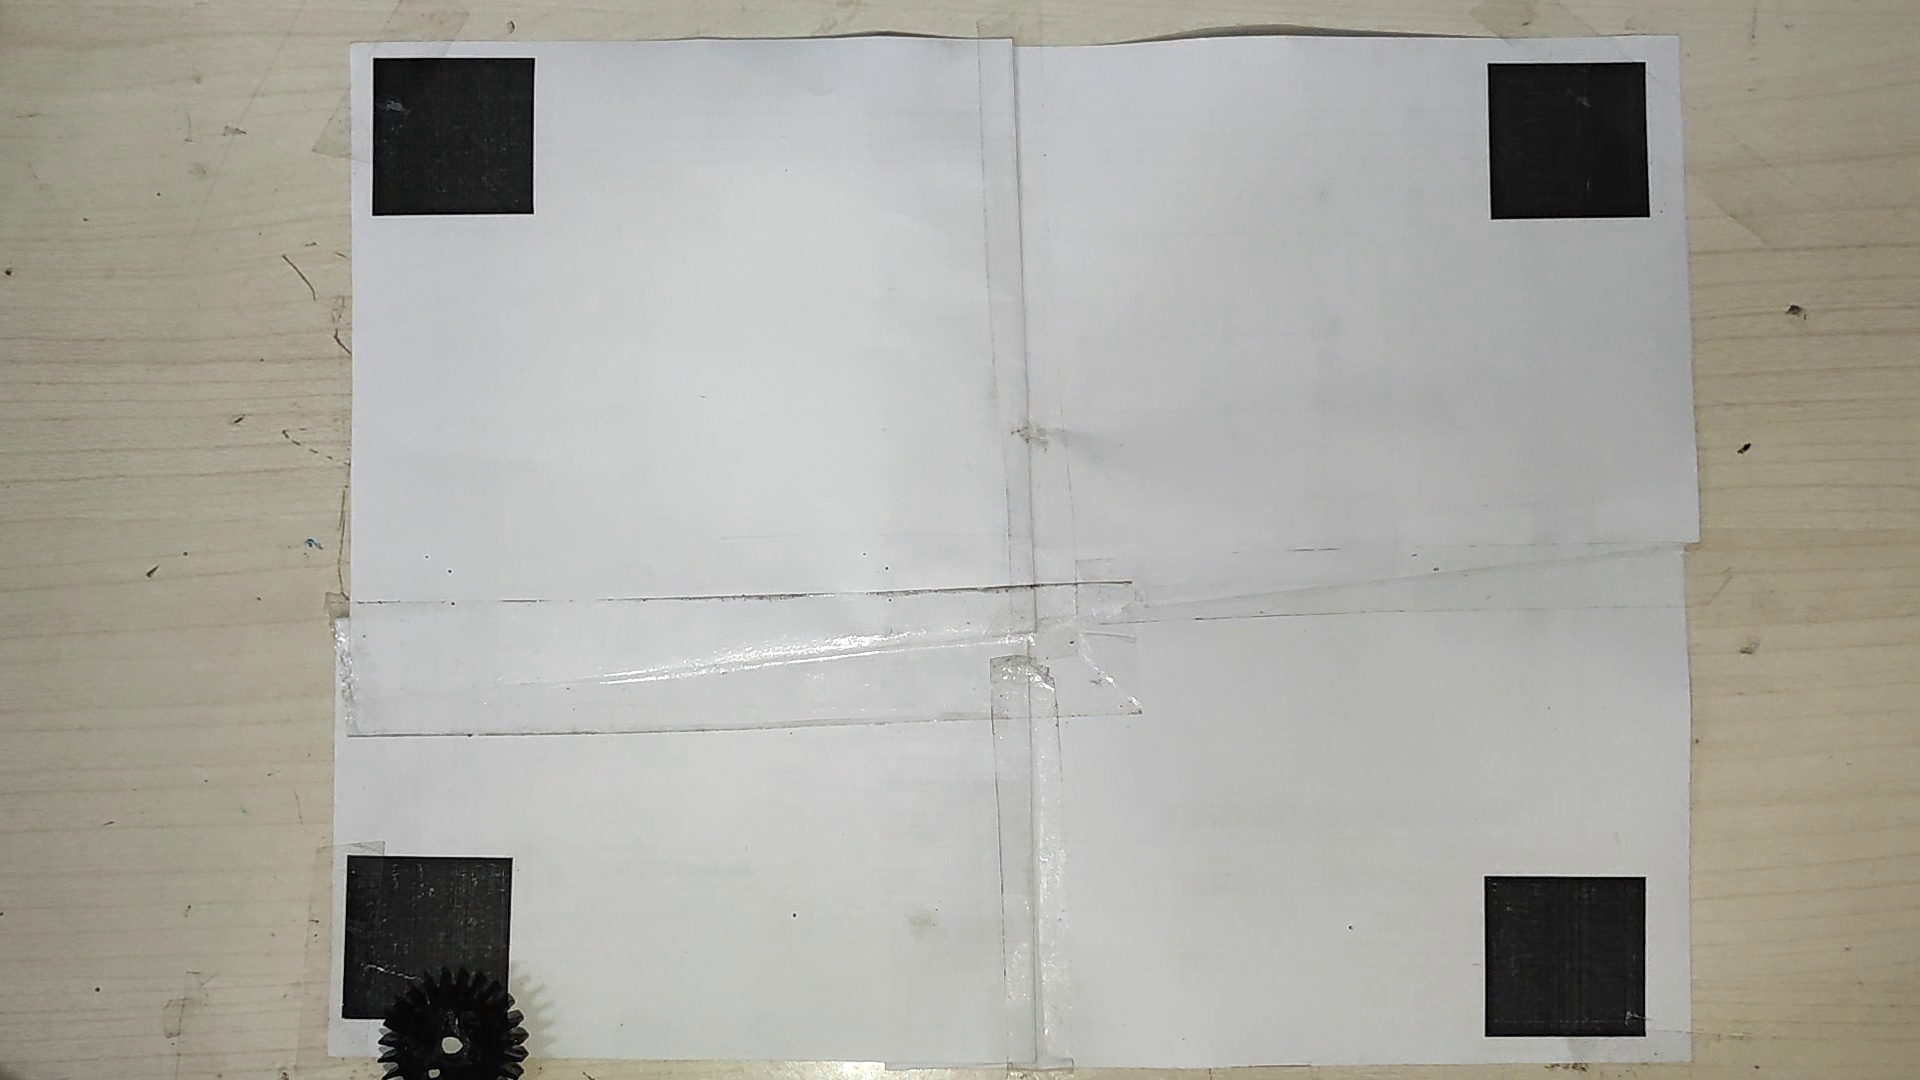Gear: (377, 968, 530, 1080)
